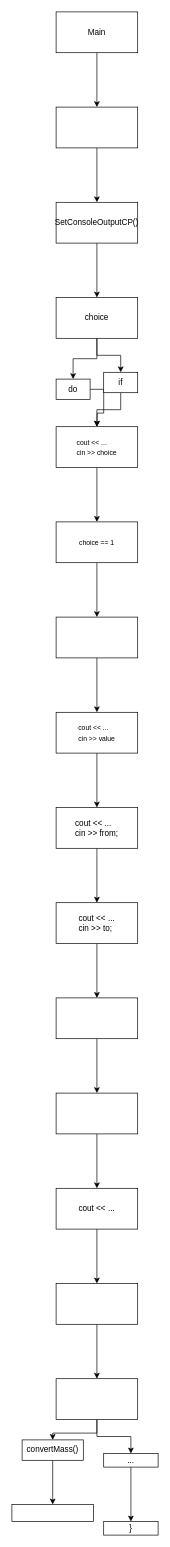
This 170x1547 diagram has some shape labels left out. Here are the shapes that lost their labels. From the top down, the centre of each, then its label:
At point 96,127: "SetConsoleCP()".
At point 96,637: "from, to value".
At point 96,1018: "string[] units".
At point 96,1113: "result = ConverLength()".
At point 96,1303: "else if".
At point 96,1399: "return 0".
At point 52,1513: "return".
